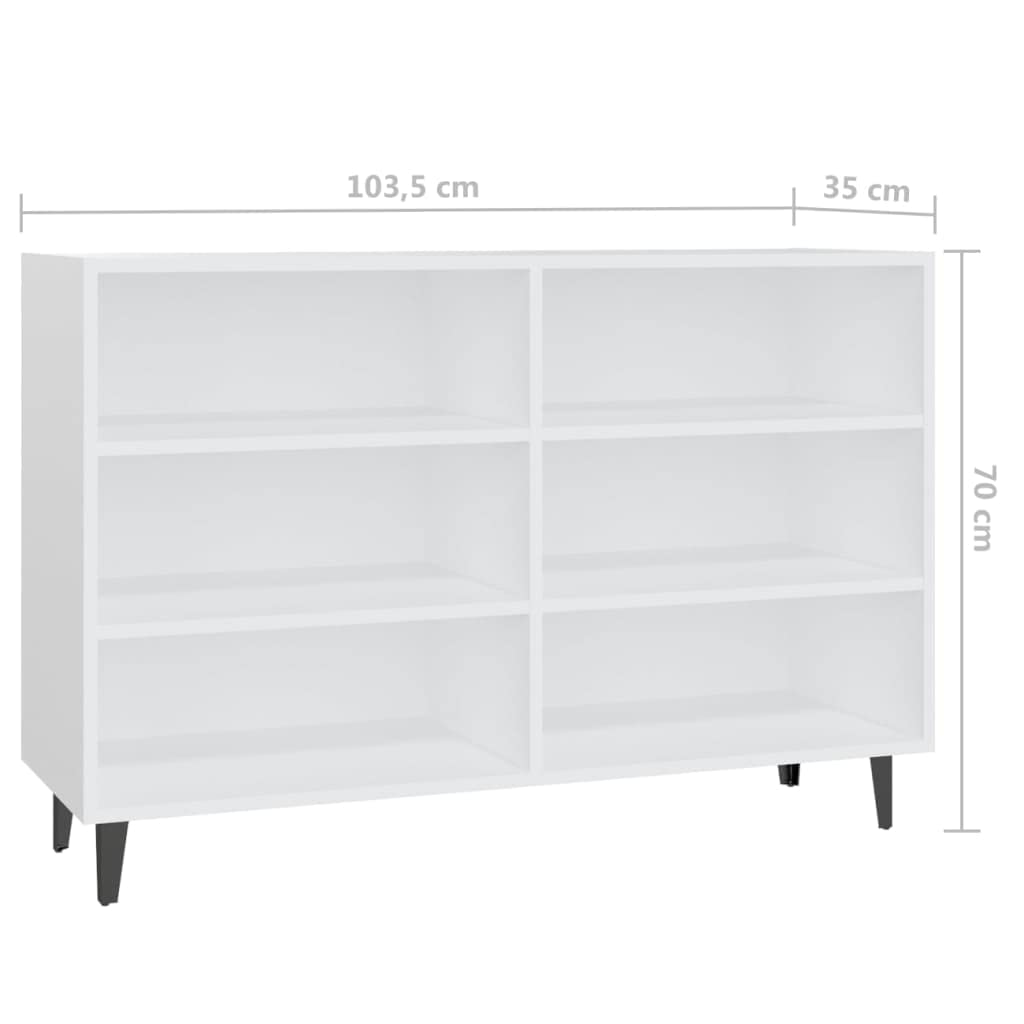OL: (974, 465, 997, 500)
em: (867, 153, 904, 239)
